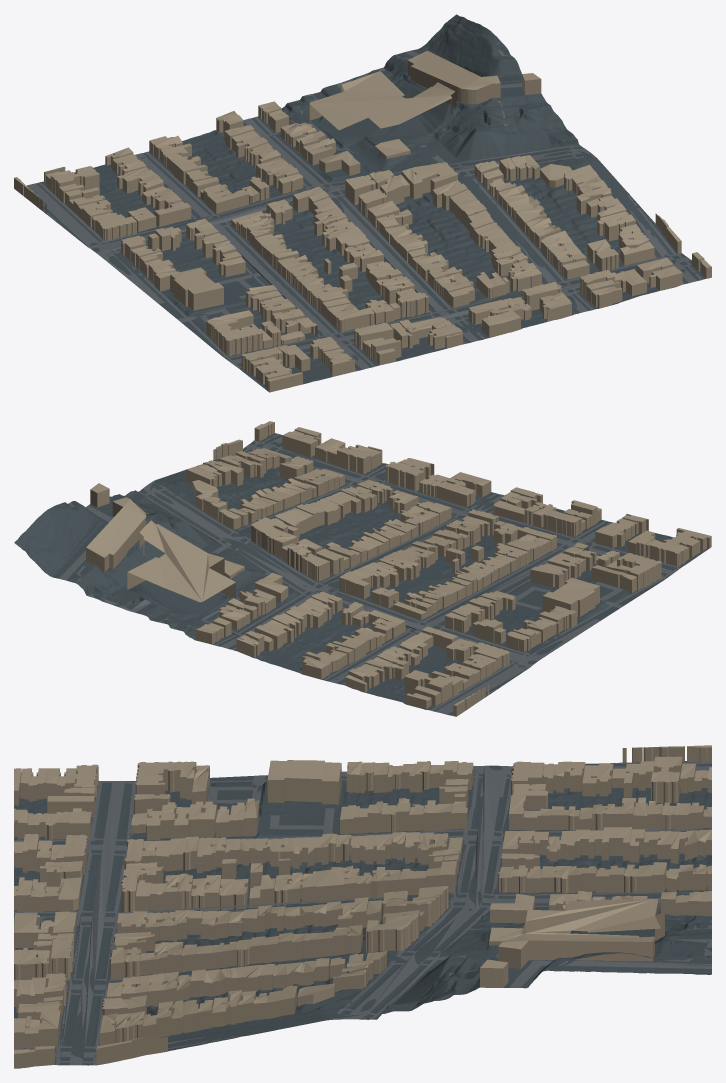
The model's file is epsg26910-1425-10884.lod0.glb.
The picture shows the model from 3 angles, top to bottom: view 1: azimuth 30°, elevation 25°; view 2: azimuth 150°, elevation 25°; view 3: azimuth 270°, elevation 25°; orthographic projection. The views are drawn at different scales.
Visible parts, largest first — view 1: epsg26910-1425-10884-lod0; view 2: epsg26910-1425-10884-lod0; view 3: epsg26910-1425-10884-lod0.
Part boxes in pixels (<box>): epsg26910-1425-10884-lod0: <box>14,14,711,392</box>; epsg26910-1425-10884-lod0: <box>14,421,711,716</box>; epsg26910-1425-10884-lod0: <box>14,745,711,1068</box>.
Bounding box in the file's own units: 384 × 76.13 × 384.
